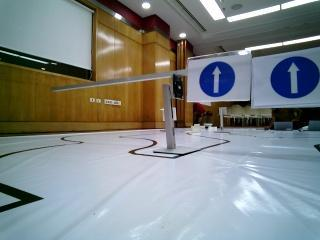straight: (249, 57, 320, 108), (184, 59, 251, 100)
